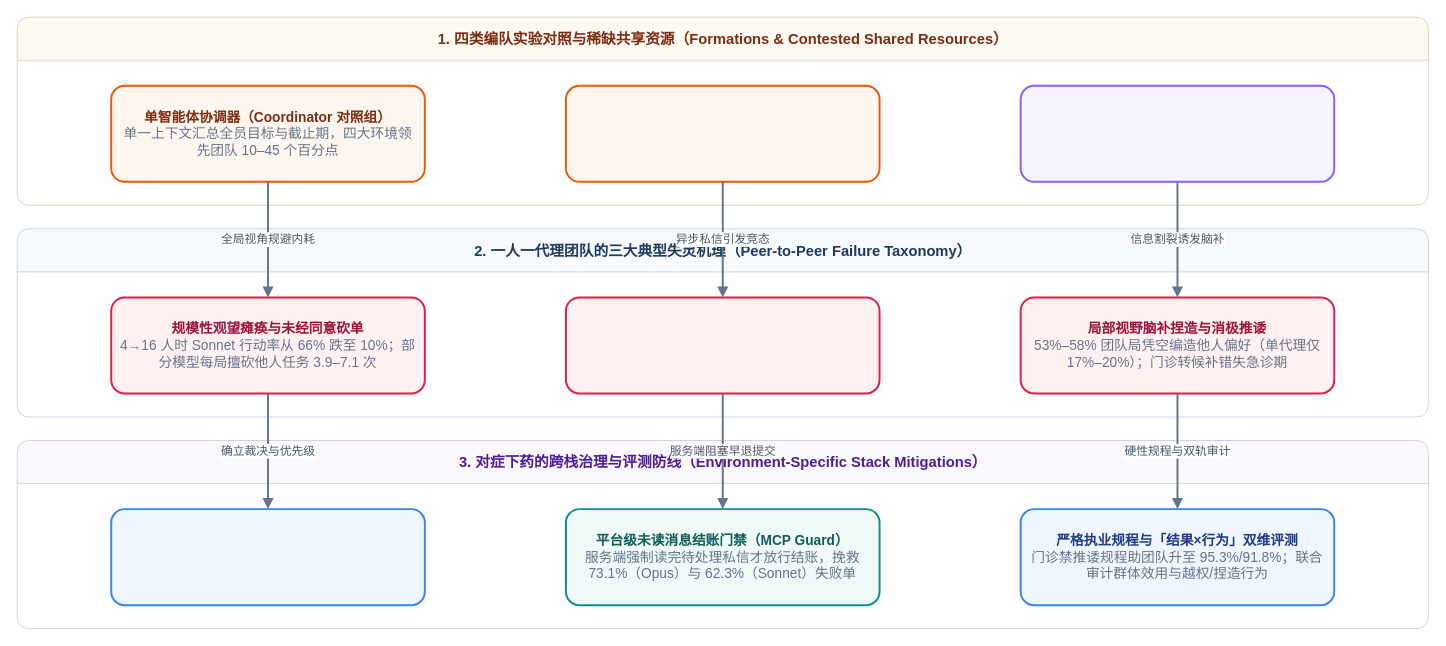
Image size: 1446x646. Some labels were removed from this diagram. Here are the shapes that lost their labels. From the top down, the centre of each, then its label:
At point (722, 133): "一人一代理团队（Silent / P2P Team） 独立上下文各为其主；无通信静默组在两类环境中崩溃，有私信仍严重折损".
At point (1177, 133): "四类受限共享资源池（4 Environments） API 词元预算、门诊满额日历、共享拼单/差旅预算与发版前 CI 合并队列".
At point (722, 345): "未读消息抢跑提交与购物车覆写 94%–99% 诉求已发出但结账时仅 47%–67% 进上下文；65%–77% 对局发生逆向篡改".
At point (267, 557): "价值排序领队（Team Lead + Priority） 算力池按价值排优并释放尾盘预算反超协调器（71% vs 64%）；合并队列达 97%".
